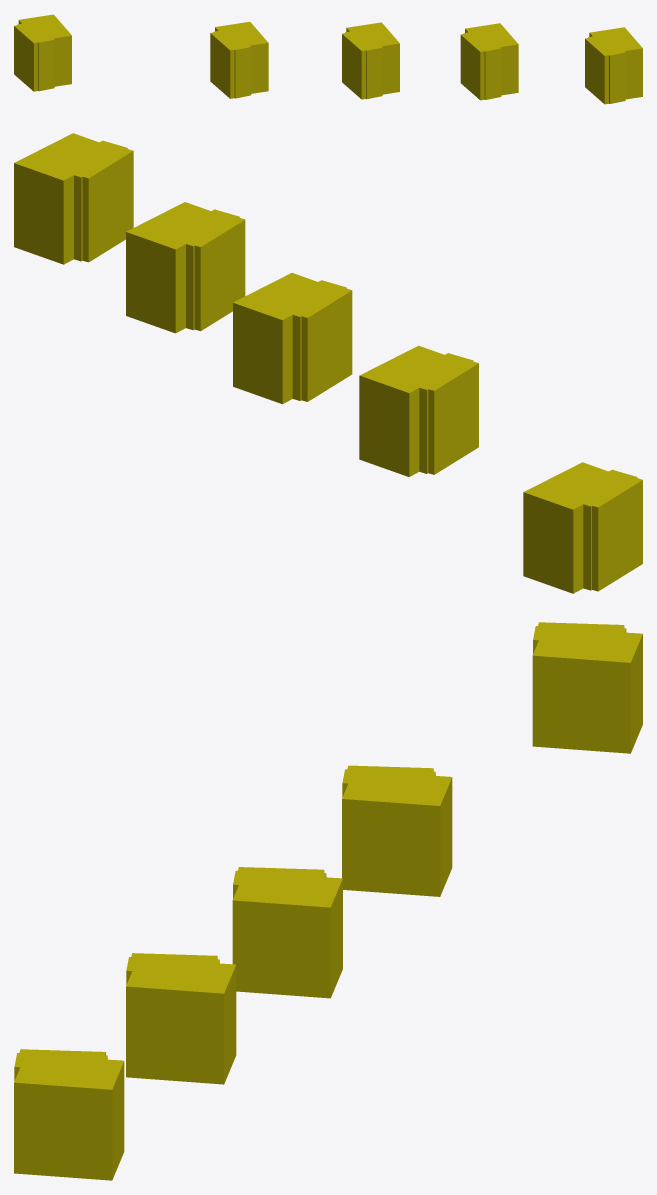
Rendered from PAM_Hipposkyla.fbx.
3 views of the same model, one above another, from view 1: azimuth 30°, elevation 25°; view 2: azimuth 150°, elevation 25°; view 3: azimuth 270°, elevation 25° (orthographic). The views are drawn at different scales.
Visible parts, largest first — view 1: PAM_hipposkyla; view 2: PAM_hipposkyla; view 3: PAM_hipposkyla.
Boxes of the visible parts, left/top/right/bottom form: PAM_hipposkyla: left=14, top=14, right=642, bottom=104; PAM_hipposkyla: left=14, top=133, right=642, bottom=593; PAM_hipposkyla: left=14, top=622, right=642, bottom=1180.
Size of the model in its own units: 247 by 32.38 by 151.
